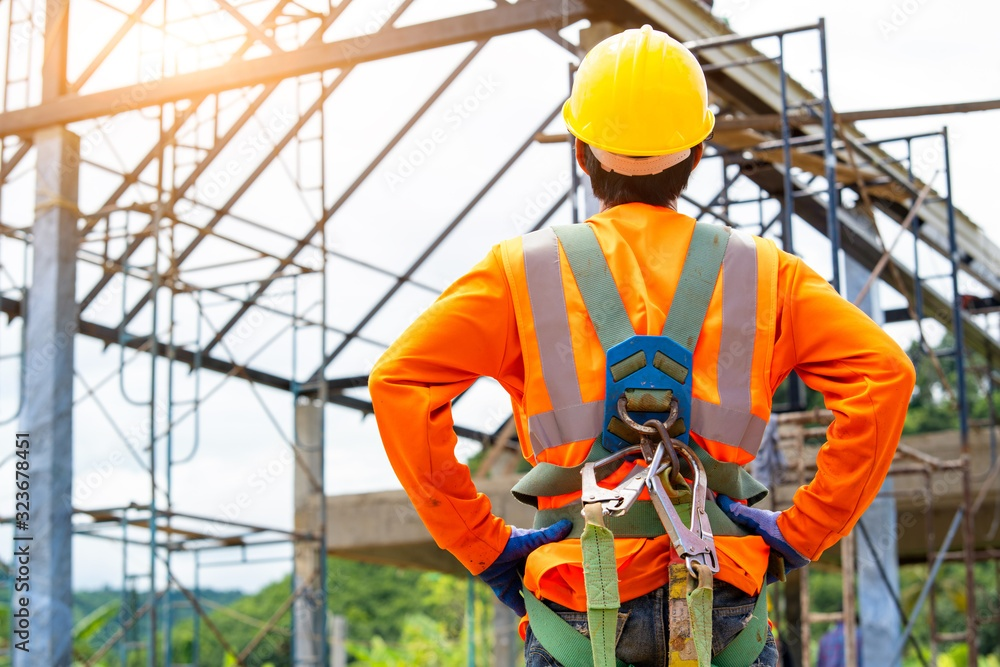Helmet: (566, 29, 715, 174)
Person: (473, 19, 812, 667)
Safety_Harness: (492, 212, 790, 667)
